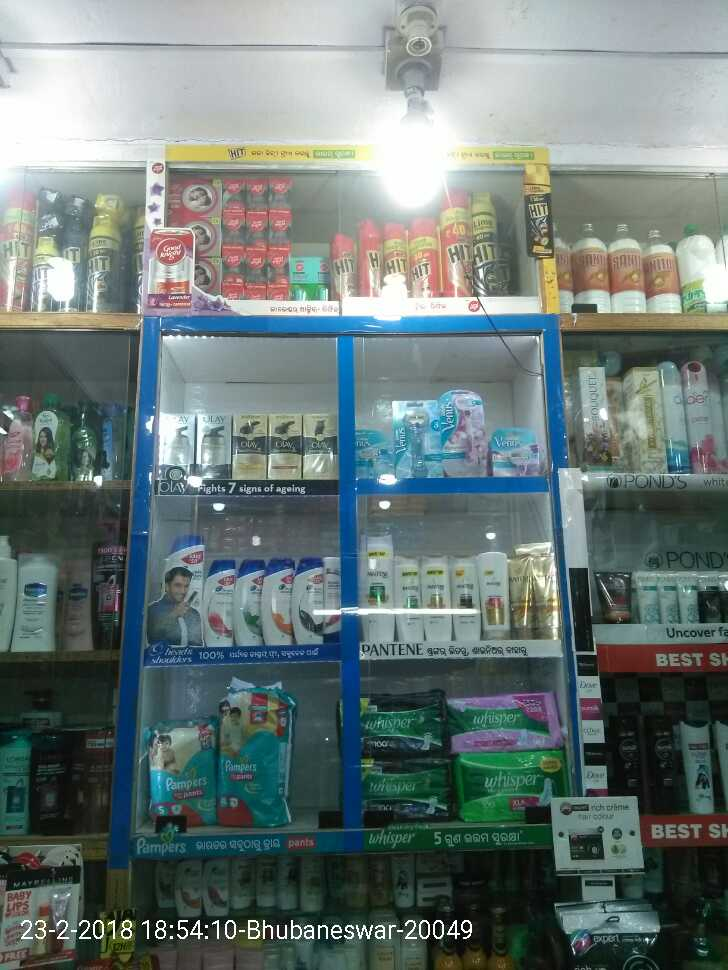venus: (440, 390, 488, 477), (395, 399, 438, 477), (491, 427, 538, 477), (356, 430, 393, 476)
